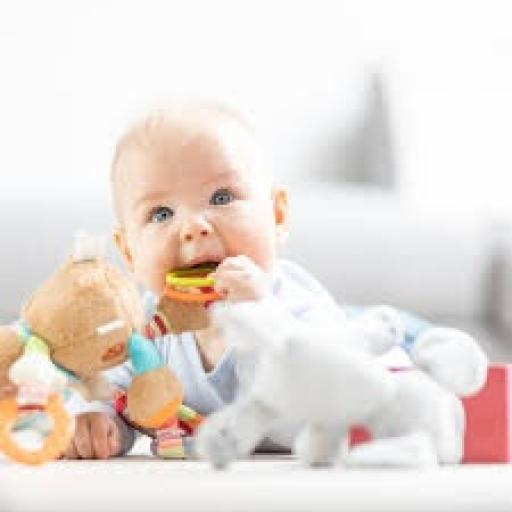baby: (112, 101, 341, 325)
